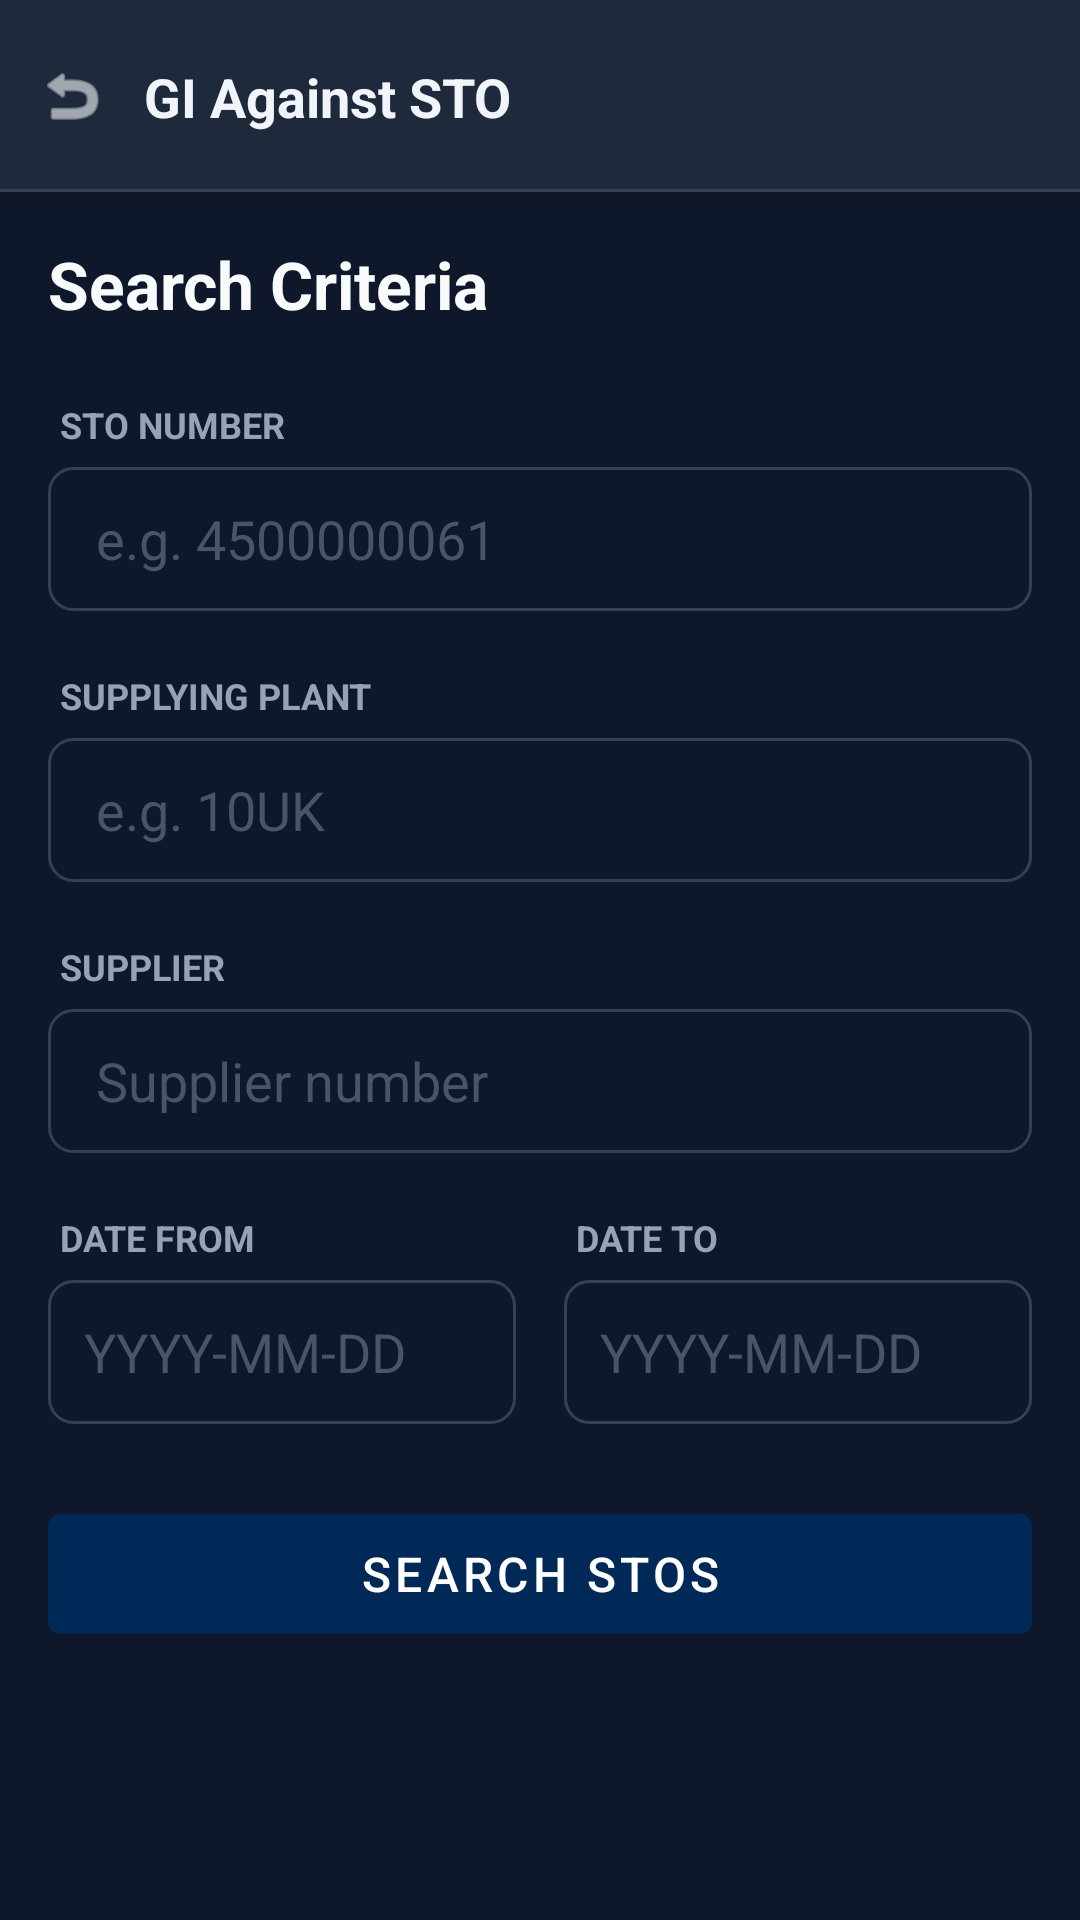

Named icons in this screenshot (1080x1920) and their bounding boxes, box(x1, y1, x2, y2):
revert: box(47, 73, 99, 120)
